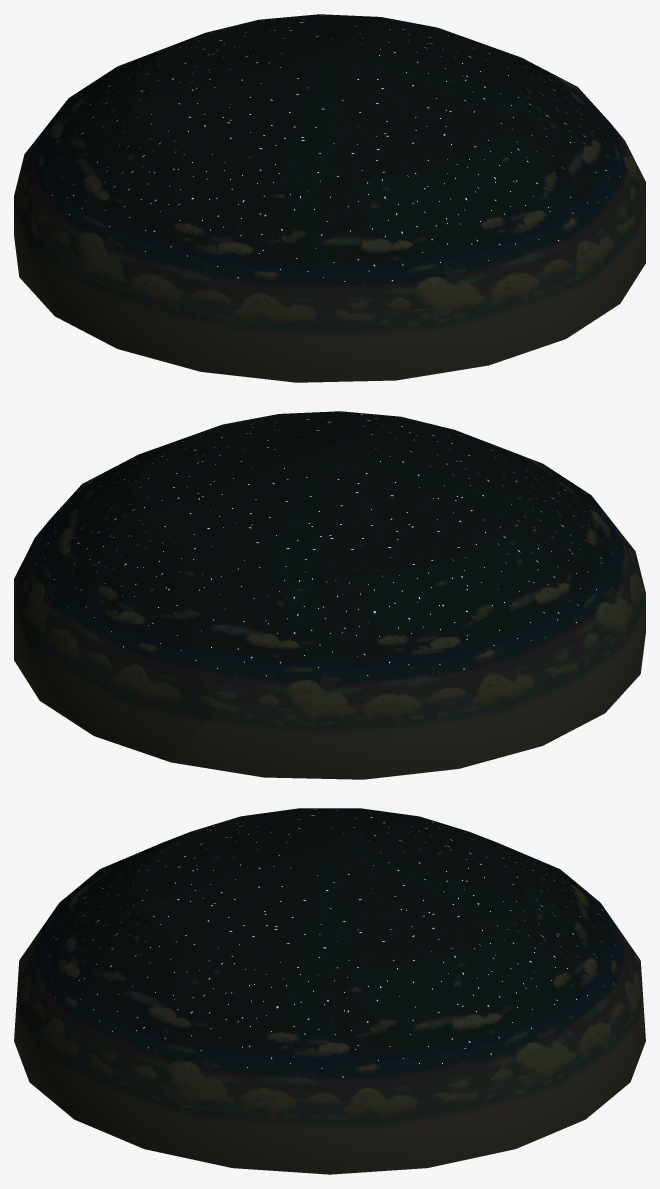
File: wario_sky.dae
The picture shows the model from 3 angles, top to bottom: view 1: azimuth 30°, elevation 25°; view 2: azimuth 150°, elevation 25°; view 3: azimuth 270°, elevation 25°; orthographic projection.
Parts seen in each view (by area): view 1: n0b0; view 2: n0b0; view 3: n0b0.
Boxes of the visible parts, left/top/right/bottom form: n0b0: left=14, top=14, right=645, bottom=382; n0b0: left=14, top=411, right=645, bottom=779; n0b0: left=14, top=808, right=645, bottom=1174.
Size of the model in its own units: 243096 by 84744 by 243096.
1 material, 1 textured.
